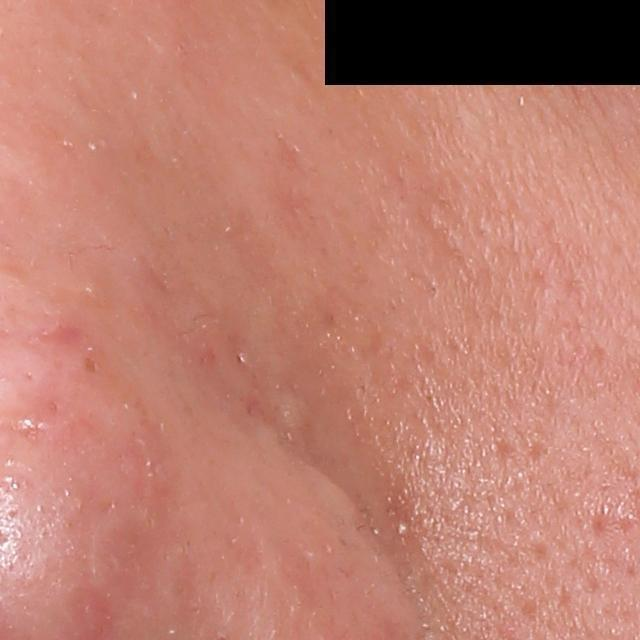hypertrophic_scar: (276, 393, 311, 434)
